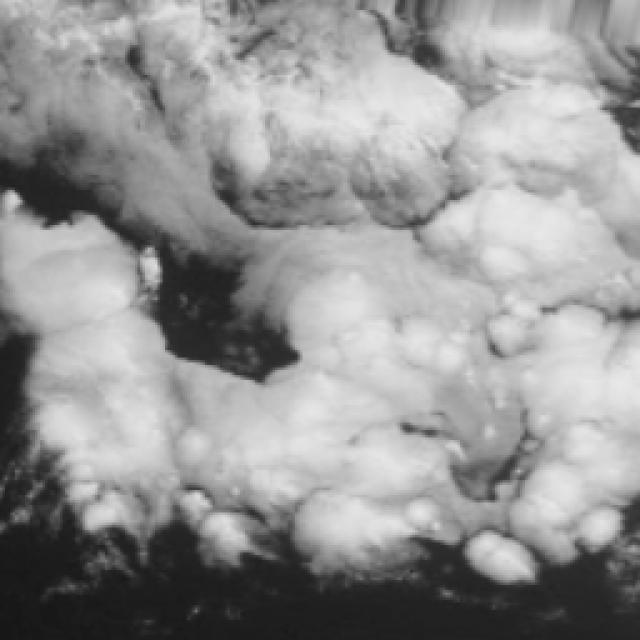CB: (333, 112, 604, 396), (185, 373, 438, 528), (235, 64, 450, 234), (520, 313, 640, 550)
